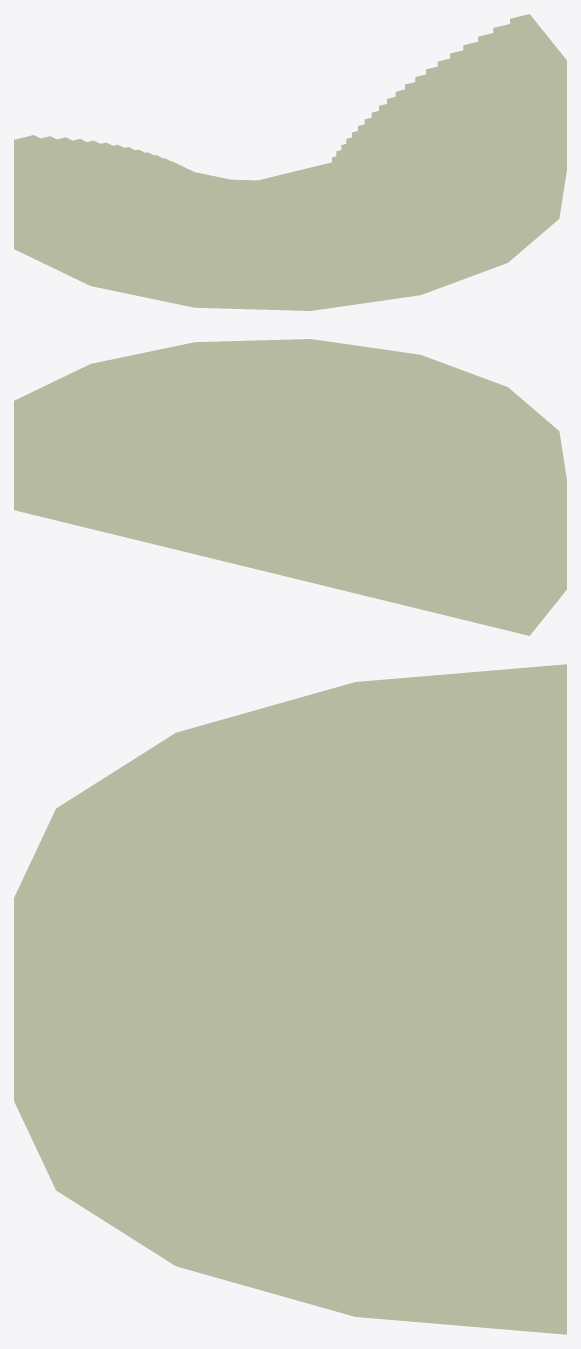
File: roman_theatre.dae
The picture shows the model from 3 angles, top to bottom: view 1: azimuth 30°, elevation 25°; view 2: azimuth 150°, elevation 25°; view 3: azimuth 270°, elevation 25°; orthographic projection. The views are drawn at different scales.
Visible parts, largest first — view 1: cylinder2-0; view 2: cylinder2-0; view 3: cylinder2-0.
Part boxes in pixels (box(x1,y1,x2,y2)): cylinder2-0: box(14, 14, 566, 310); cylinder2-0: box(14, 339, 566, 635); cylinder2-0: box(14, 664, 566, 1334).
Bounding box in the file's own units: 10.53 × 2.13 × 5.26.
